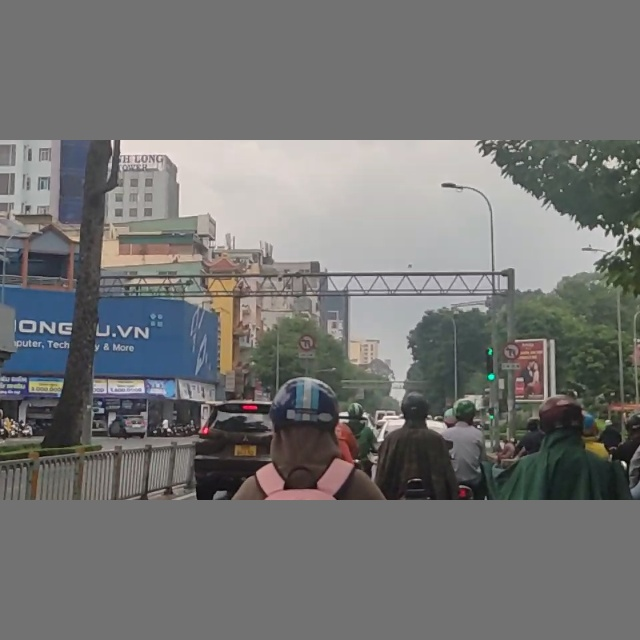P.124c: (297, 334, 315, 352), (502, 342, 519, 361)
